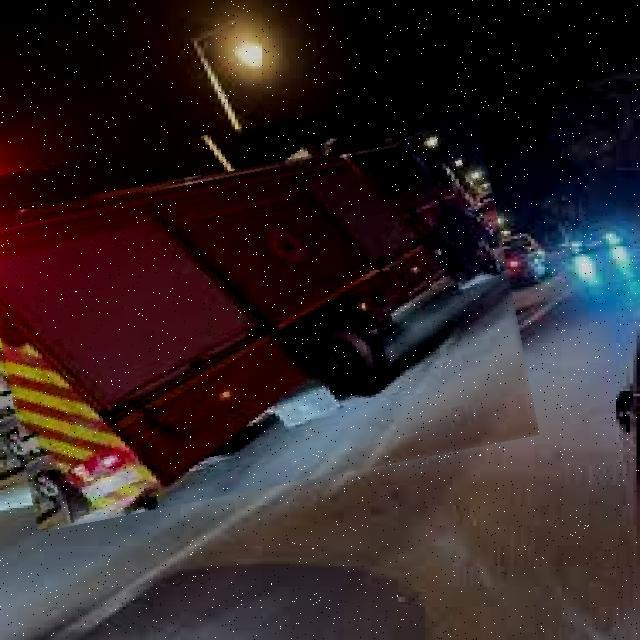pompier: (0, 107, 526, 510)
